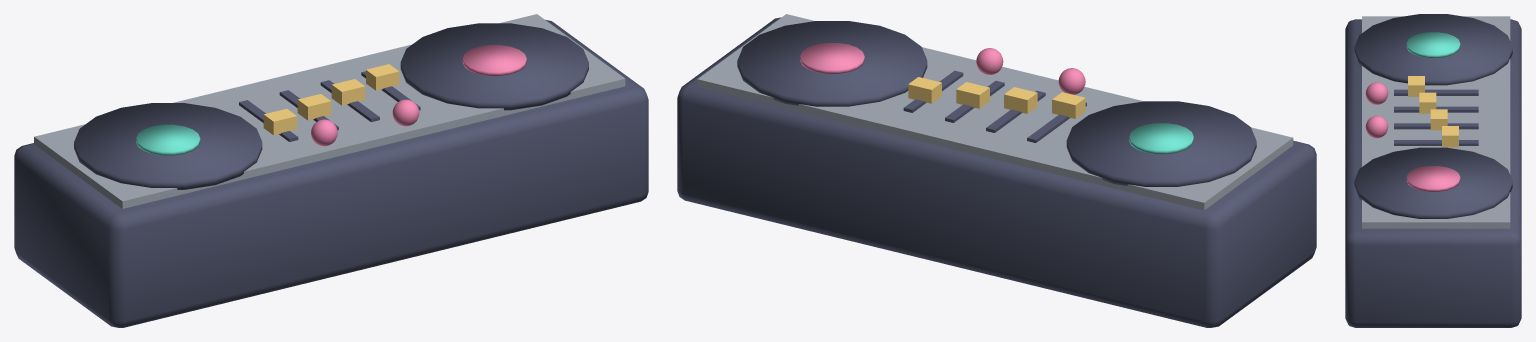
Rendered from FestivalDJDeck.fbx.
3 views of the same model, side by side, from view 1: azimuth 30°, elevation 25°; view 2: azimuth 150°, elevation 25°; view 3: azimuth 270°, elevation 25° (orthographic). The views are drawn at different scales.
Parts seen in each view (by area): view 1: FestivalDJDeck Dark__Dark, FestivalDJDeck Metal__Metal, FestivalDJDeck Rose__Rose, FestivalDJDeck Mint__Mint, Fader moving 2__Gold, Fader moving 1__Gold, Fader moving 0__Gold, Fader moving 3__Gold; view 2: FestivalDJDeck Dark__Dark, FestivalDJDeck Metal__Metal, FestivalDJDeck Rose__Rose, FestivalDJDeck Mint__Mint, Fader moving 1__Gold, Fader moving 2__Gold, Fader moving 0__Gold, Fader moving 3__Gold; view 3: FestivalDJDeck Dark__Dark, FestivalDJDeck Metal__Metal, FestivalDJDeck Rose__Rose, FestivalDJDeck Mint__Mint, Fader moving 3__Gold, Fader moving 1__Gold, Fader moving 2__Gold, Fader moving 0__Gold.
Part boxes in pixels (x1,y1,x2,y2): FestivalDJDeck Dark__Dark: (14,19,648,327); FestivalDJDeck Metal__Metal: (34,14,625,208); FestivalDJDeck Rose__Rose: (311,45,526,146); FestivalDJDeck Mint__Mint: (136,124,200,155); Fader moving 2__Gold: (331,79,365,105); Fader moving 1__Gold: (297,94,331,120); Fader moving 0__Gold: (263,108,296,135); Fader moving 3__Gold: (366,64,399,90); FestivalDJDeck Dark__Dark: (677,17,1316,327); FestivalDJDeck Metal__Metal: (697,14,1293,210); FestivalDJDeck Rose__Rose: (800,43,1085,94); FestivalDJDeck Mint__Mint: (1129,123,1193,154); Fader moving 1__Gold: (1004,87,1037,113); Fader moving 2__Gold: (956,82,989,108); Fader moving 0__Gold: (1052,92,1085,118); Fader moving 3__Gold: (908,77,941,103); FestivalDJDeck Dark__Dark: (1345,14,1521,327); FestivalDJDeck Metal__Metal: (1362,16,1510,228); FestivalDJDeck Rose__Rose: (1365,82,1460,191); FestivalDJDeck Mint__Mint: (1406,32,1460,57); Fader moving 3__Gold: (1442,126,1458,147); Fader moving 1__Gold: (1419,92,1436,113); Fader moving 2__Gold: (1430,109,1447,130); Fader moving 0__Gold: (1408,76,1424,96).
Bounding box in the file's own units: 370 × 95 × 125.
